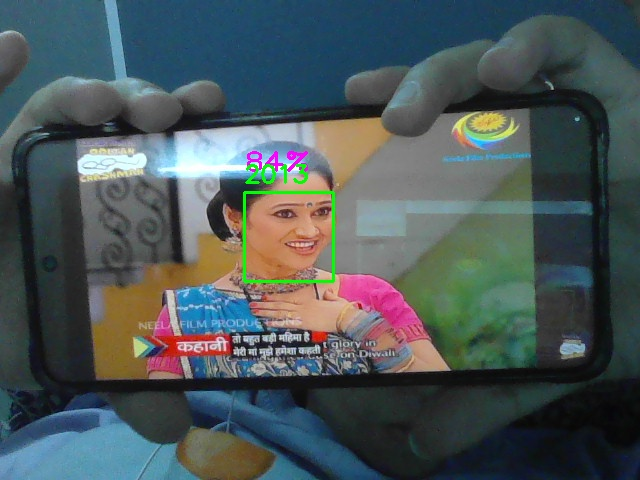fake: (244, 192, 334, 282)
